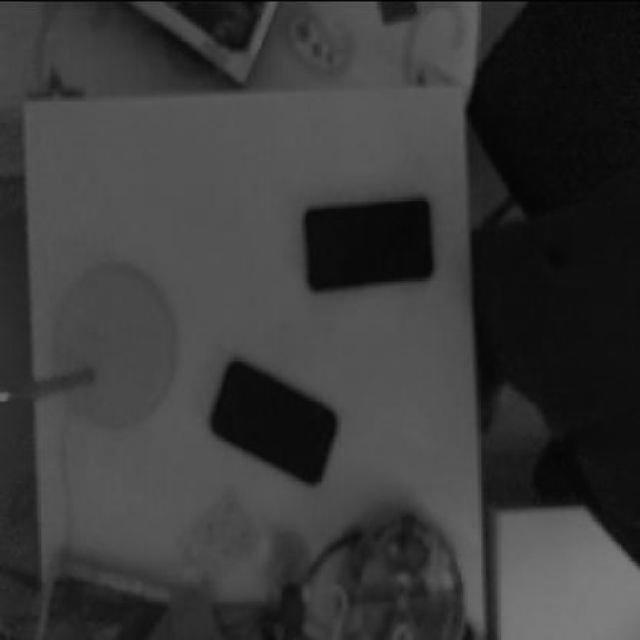fake: (212, 356, 338, 482), (300, 188, 434, 294)
